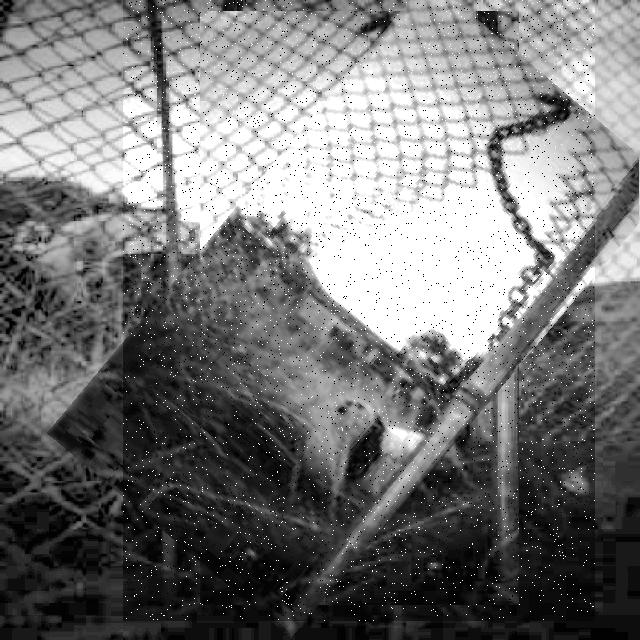anomaly-fence: (123, 0, 595, 621)
